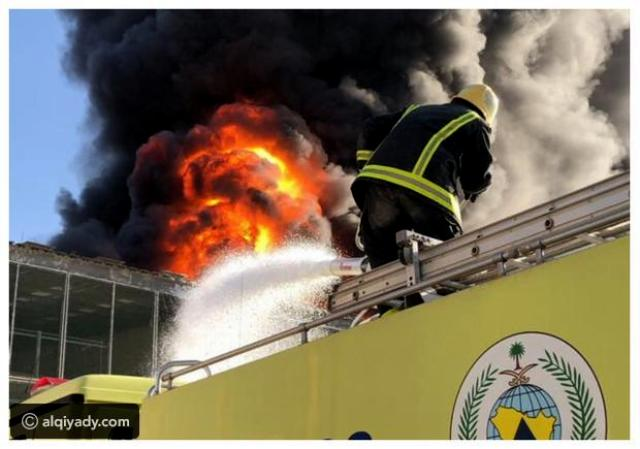fire: (126, 99, 338, 283)
